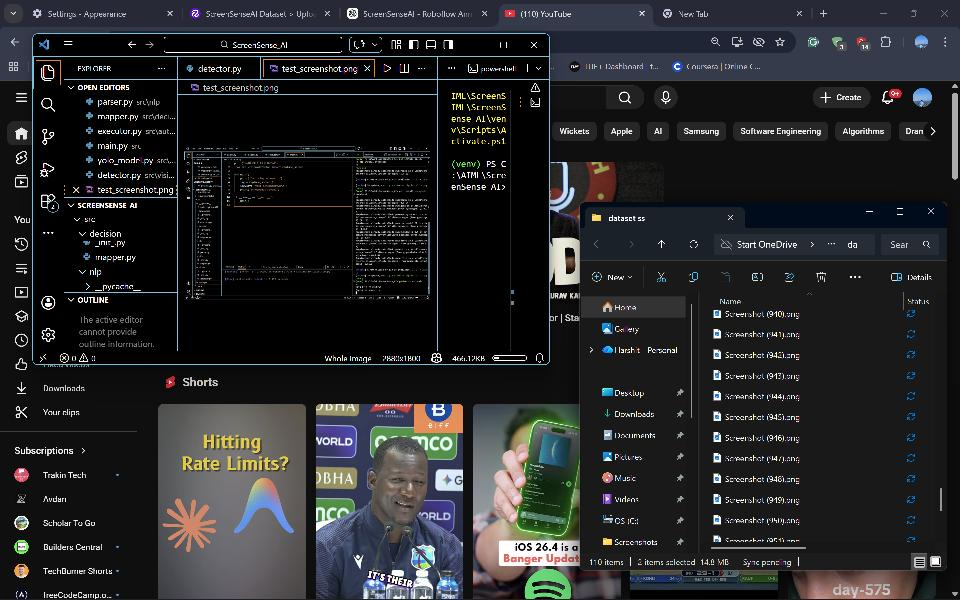close_button: (934, 1, 957, 26), (524, 36, 544, 54), (921, 205, 943, 220)
maximize_button: (904, 1, 926, 25), (494, 36, 513, 54), (892, 205, 911, 221)
minimize_button: (871, 2, 897, 23), (861, 205, 880, 222), (465, 36, 483, 53)
